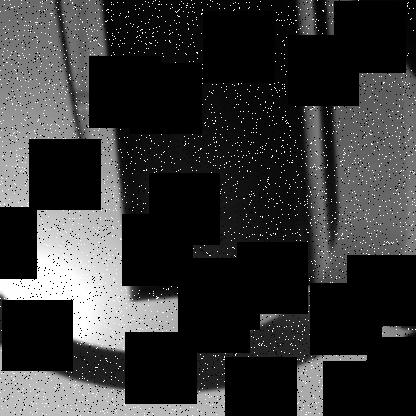Porte: (98, 0, 321, 304)
